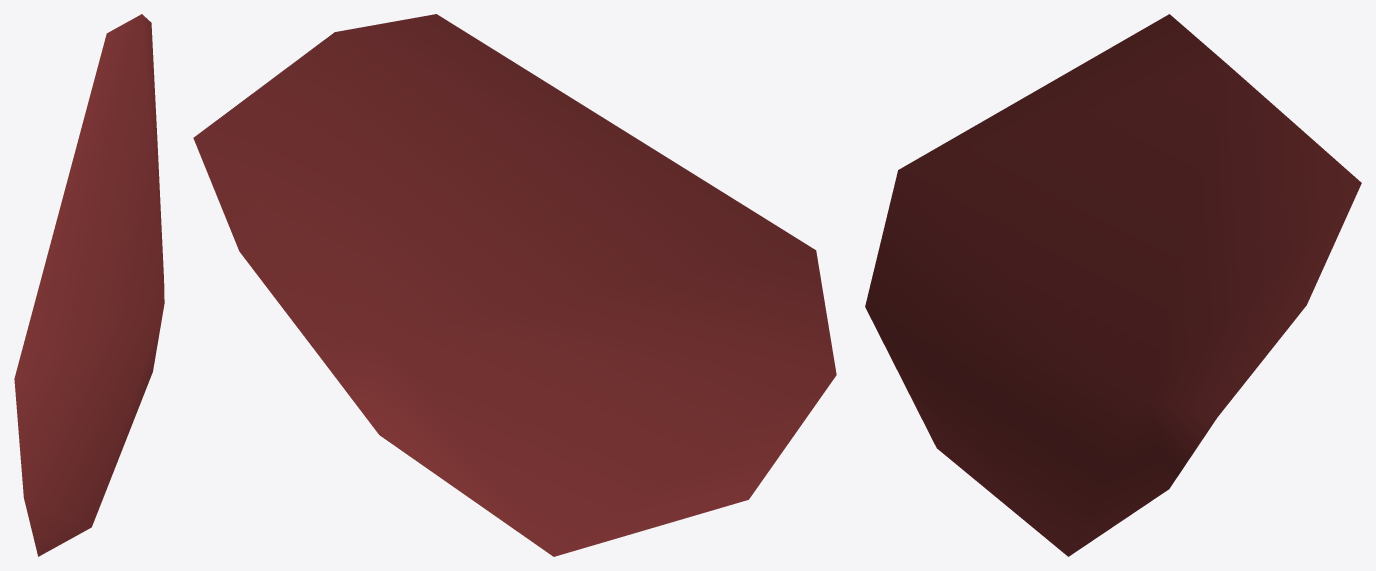
The model's file is zygomaticus-minor-muscle-ol.glb.
3 views of the same model, side by side, from view 1: azimuth 30°, elevation 25°; view 2: azimuth 150°, elevation 25°; view 3: azimuth 270°, elevation 25° (orthographic). The views are drawn at different scales.
Parts seen in each view (by area): view 1: Zygomaticus minor muscle.ol; view 2: Zygomaticus minor muscle.ol; view 3: Zygomaticus minor muscle.ol.
Boxes of the visible parts, x1,y1,x2,y2 form: Zygomaticus minor muscle.ol: (14,14,164,556); Zygomaticus minor muscle.ol: (193,14,836,556); Zygomaticus minor muscle.ol: (865,14,1361,556).
Bounding box in the file's own units: 0.0066 × 0.00885 × 0.0069.
